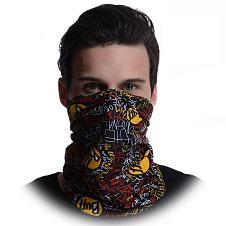OK: (71, 65, 150, 157)
